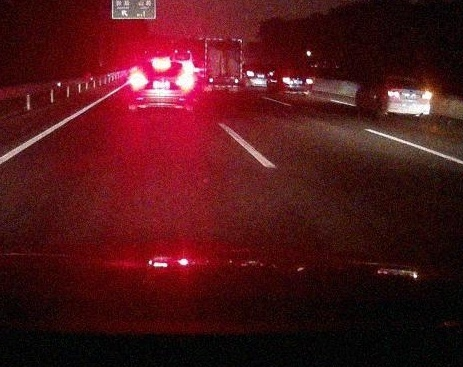L_light: (128, 74, 147, 89), (385, 89, 399, 97), (281, 77, 291, 83), (207, 78, 214, 82)
R_light: (176, 74, 195, 90), (420, 91, 432, 99), (305, 78, 312, 84), (233, 79, 241, 83)
T_light: (151, 61, 171, 69), (402, 77, 412, 81), (219, 40, 228, 43), (292, 69, 300, 72)
night-brake: (127, 58, 195, 111)
night-no: (203, 38, 243, 94), (277, 68, 313, 95)
night-right: (381, 75, 432, 118)
